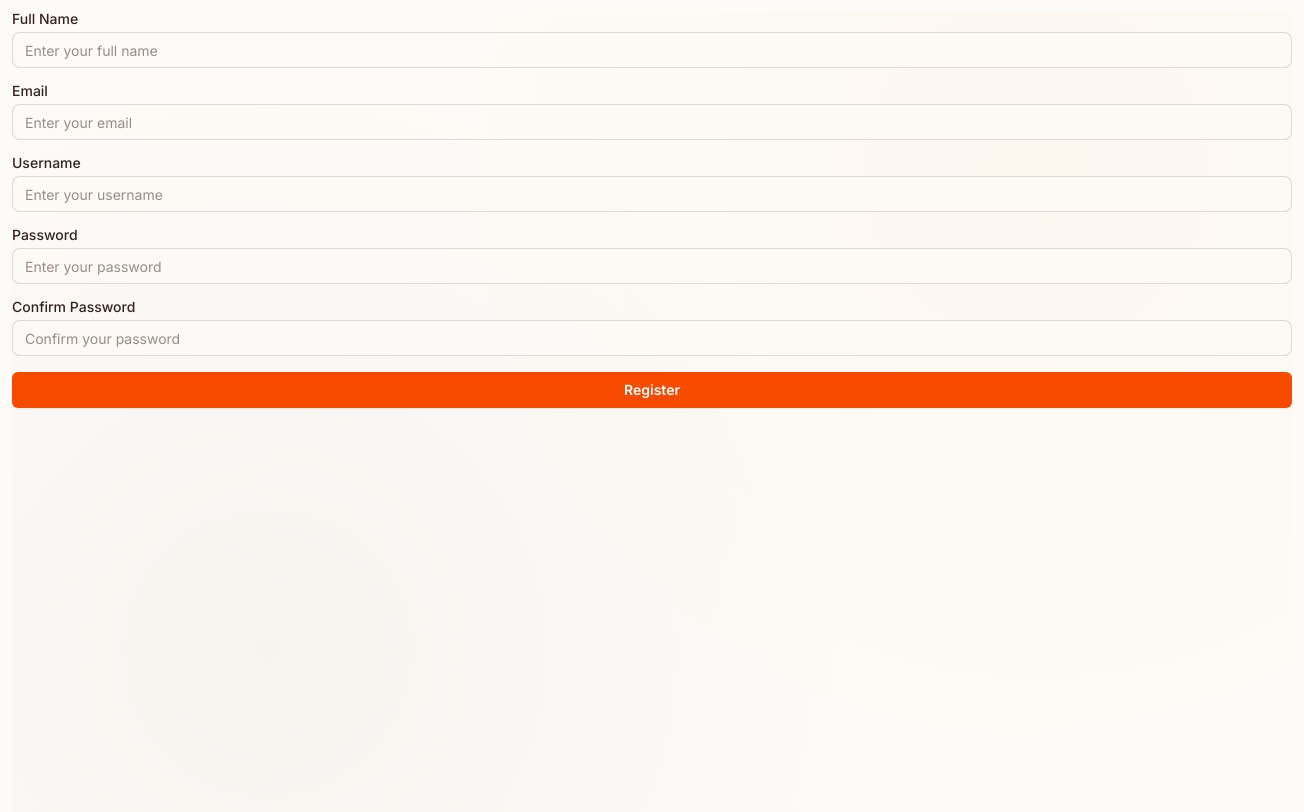
Test: UserRegistrationForm › ✅ Form Validation › should validate password minimum length
Type "123" into the password field labelled "Password".
click(652, 266); type("123")  # box [12, 248, 1292, 284]
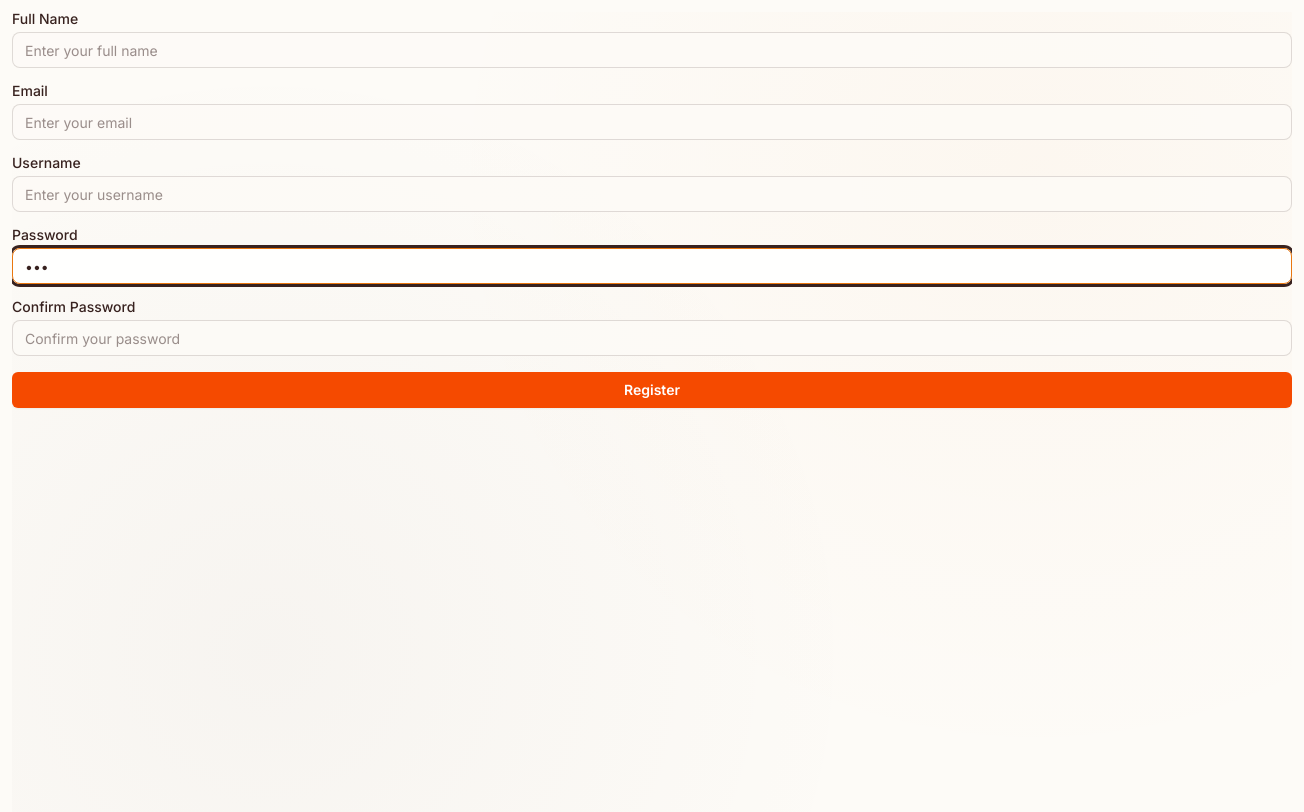
Click the button "Register".
click(652, 390)  # box [12, 372, 1292, 408]
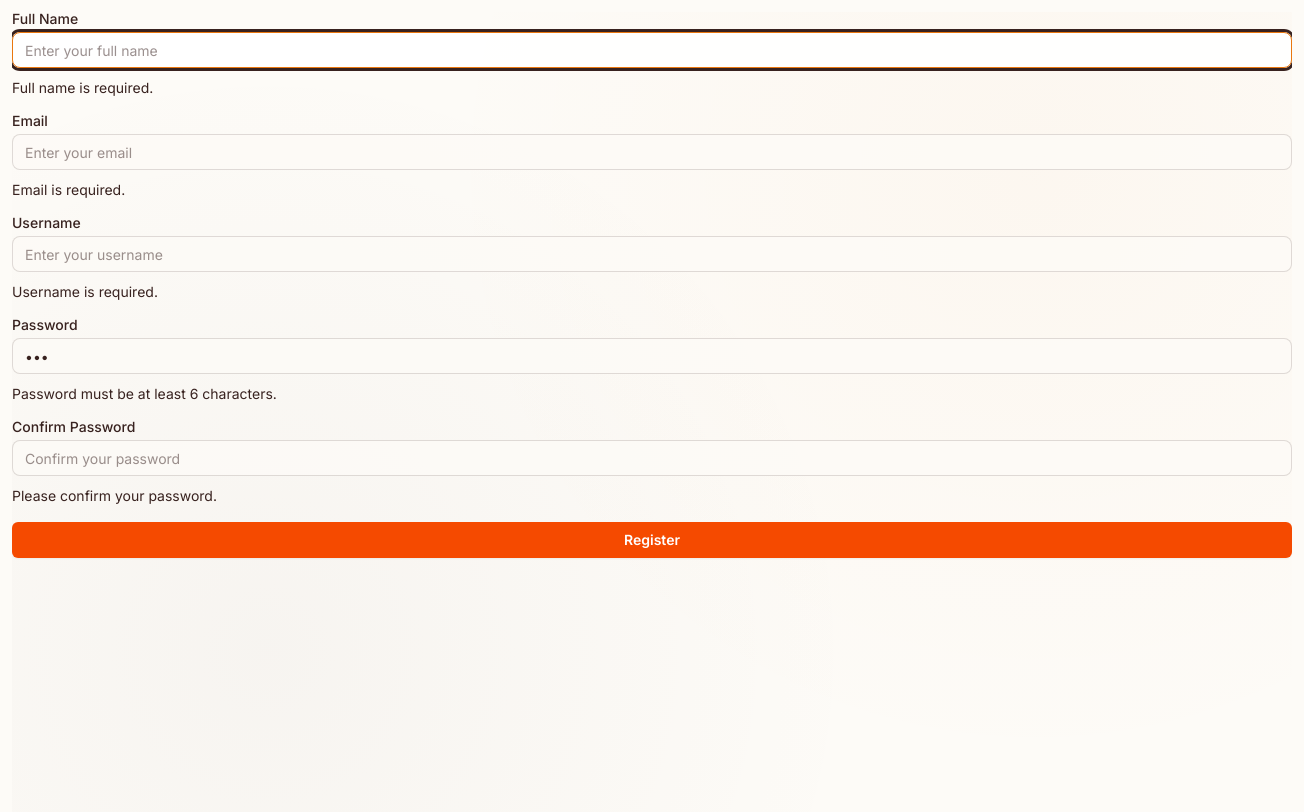
Now the text "Password must be at least 6 characters." is shown, box [12, 385, 277, 402]
